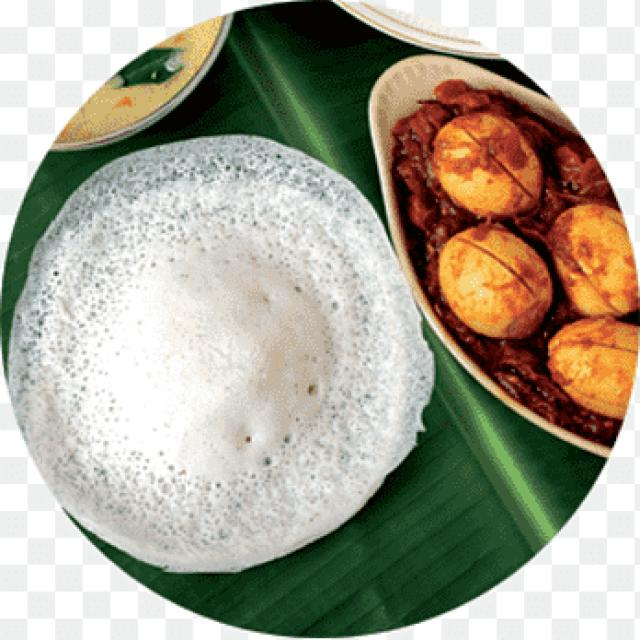AAPAM: (9, 136, 432, 570)
EGG: (392, 81, 636, 436)
